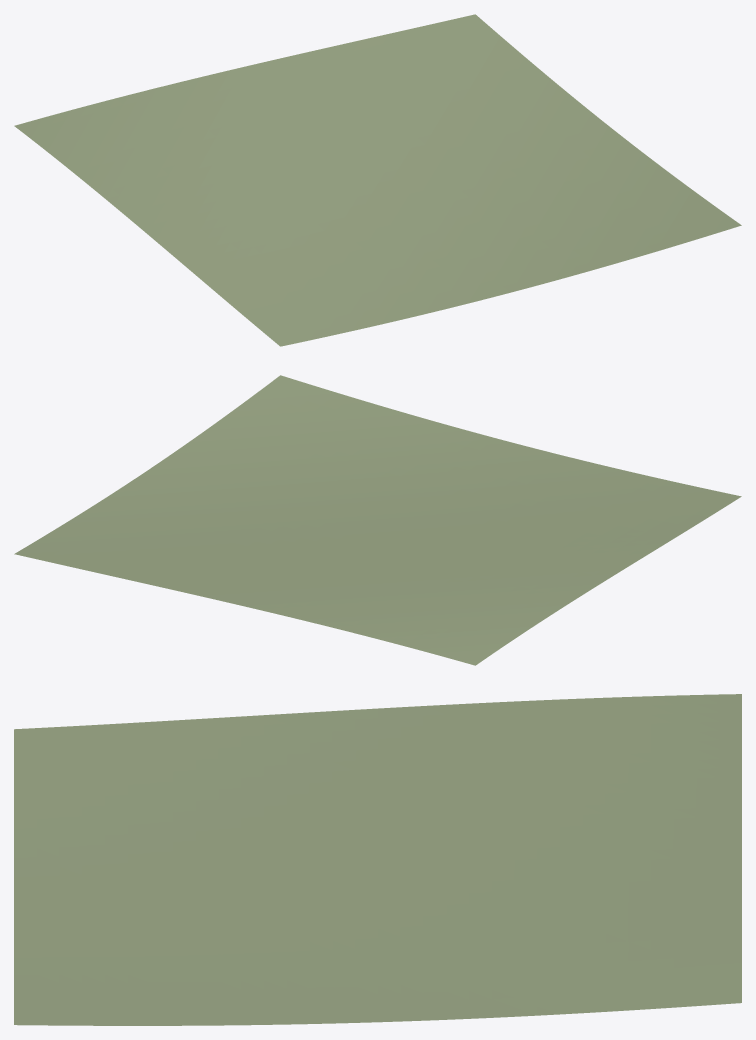
The model's file is alpine-0-1.glb.
The picture shows the model from 3 angles, top to bottom: view 1: azimuth 30°, elevation 25°; view 2: azimuth 150°, elevation 25°; view 3: azimuth 270°, elevation 25°; orthographic projection. The views are drawn at different scales.
Visible parts, largest first — view 1: alpine-0-1; view 2: alpine-0-1; view 3: alpine-0-1.
Part boxes in pixels (x1,y1,x2,y2): alpine-0-1: (14, 14, 741, 346); alpine-0-1: (14, 375, 741, 665); alpine-0-1: (14, 694, 741, 1025).
Bounding box in the file's own units: 256 × 16.86 × 256.
